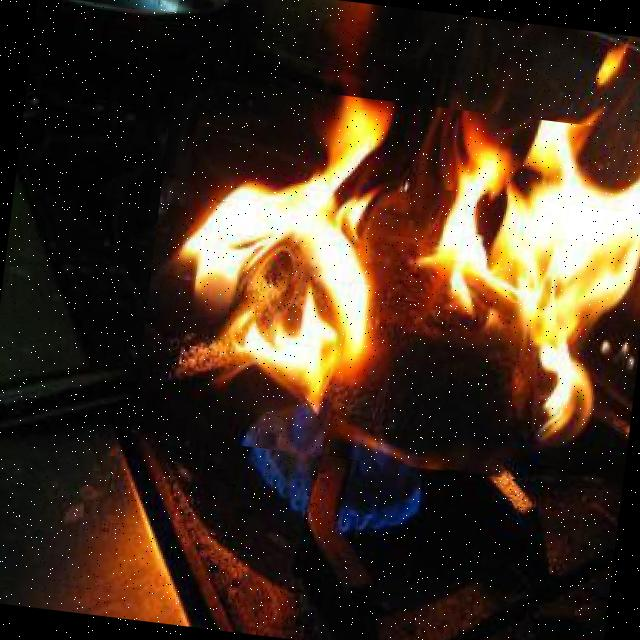fire: (131, 74, 640, 492)
